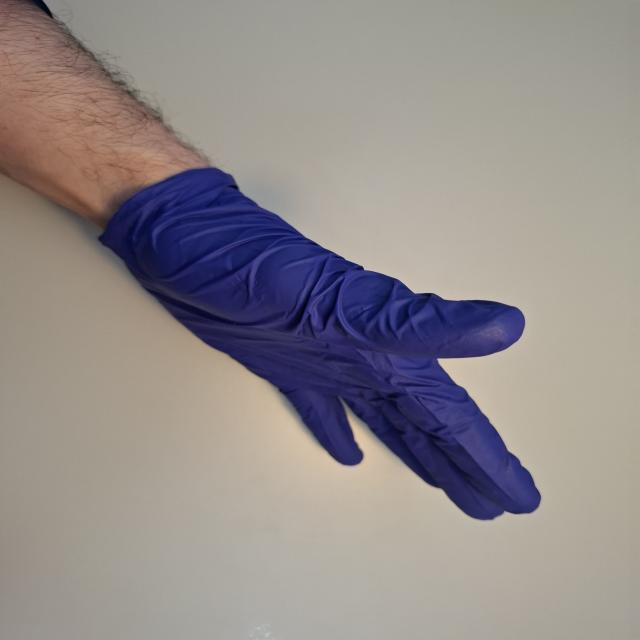glove_on: (95, 163, 545, 522)
